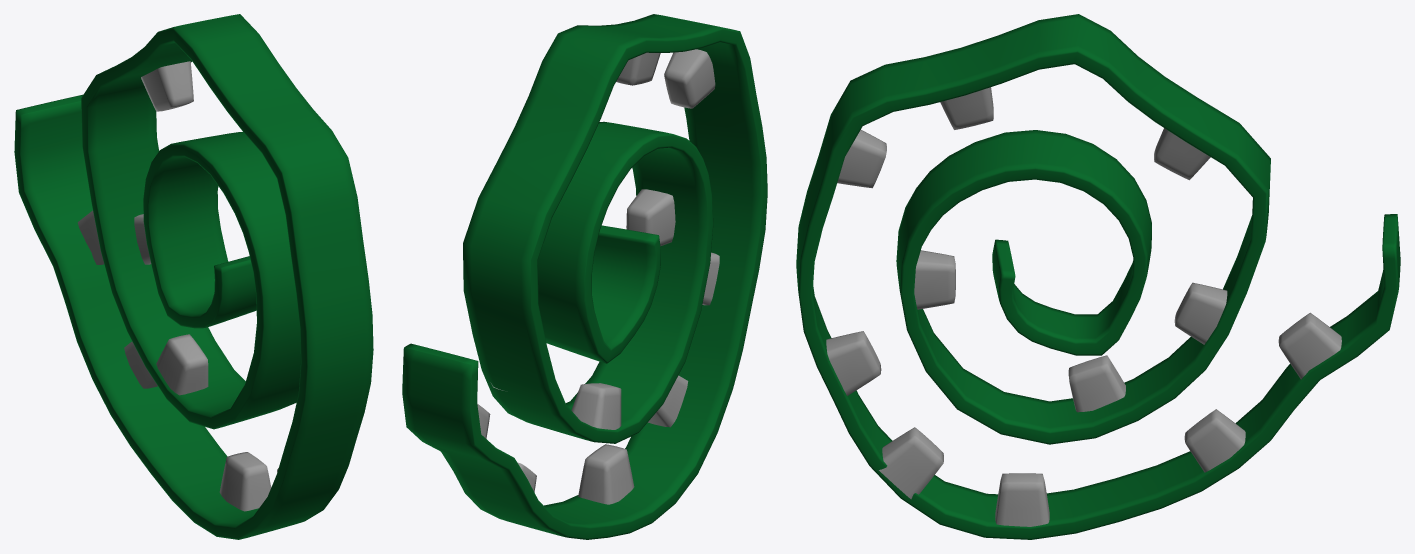
Rendered from prop_kaibutumouse.FBX.
The picture shows the model from 3 angles, left to right: view 1: azimuth 30°, elevation 25°; view 2: azimuth 150°, elevation 25°; view 3: azimuth 270°, elevation 25°; orthographic projection. The views are drawn at different scales.
Visible parts, largest first — view 1: kaibutu_moyth; view 2: kaibutu_moyth; view 3: kaibutu_moyth.
Boxes of the visible parts, box(x1,y1,x2,y2) form: kaibutu_moyth: box(14, 14, 373, 539); kaibutu_moyth: box(402, 14, 767, 539); kaibutu_moyth: box(796, 14, 1400, 539).
Size of the model in its own units: 284 by 1649 by 1822.
